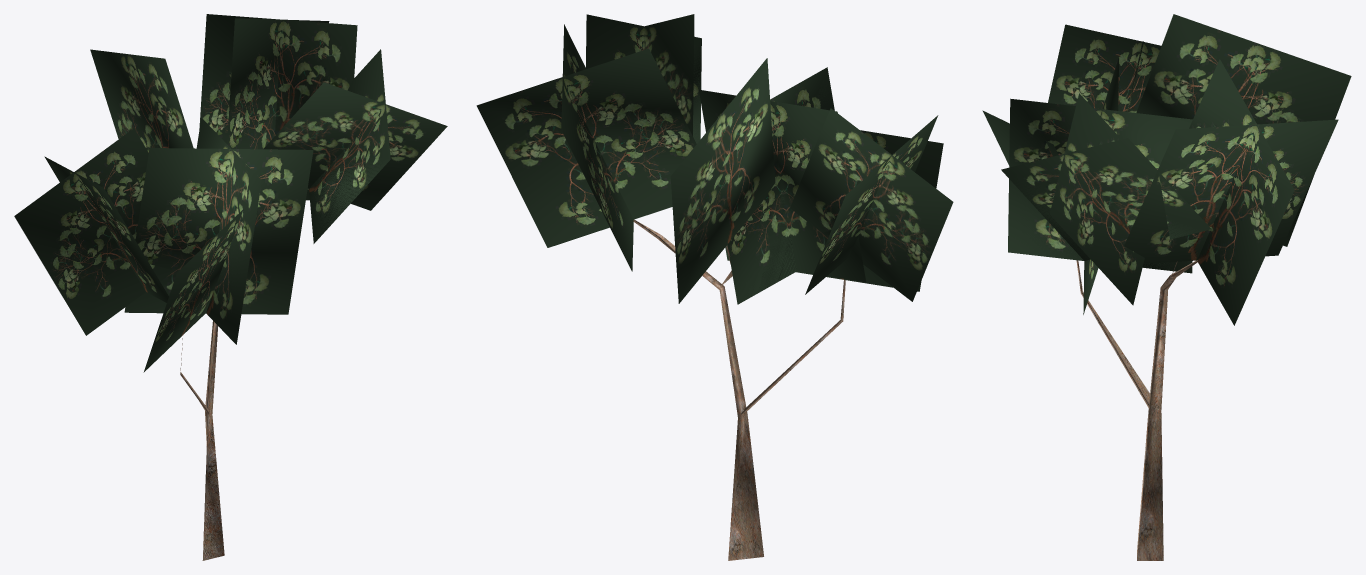
File: decd_ginkgotreeleaves_l2.fbx
3 views of the same model, side by side, from view 1: azimuth 30°, elevation 25°; view 2: azimuth 150°, elevation 25°; view 3: azimuth 270°, elevation 25° (orthographic). The views are drawn at different scales.
Parts seen in each view (by area): view 1: mesh_node; view 2: mesh_node; view 3: mesh_node.
Boxes of the visible parts, left/top/right/bottom form: mesh_node: left=14, top=14, right=447, bottom=560; mesh_node: left=476, top=14, right=953, bottom=560; mesh_node: left=982, top=14, right=1351, bottom=560.
Size of the model in its own units: 3 by 3.66 by 2.32.
Materials: 2 (2 with a texture image).
